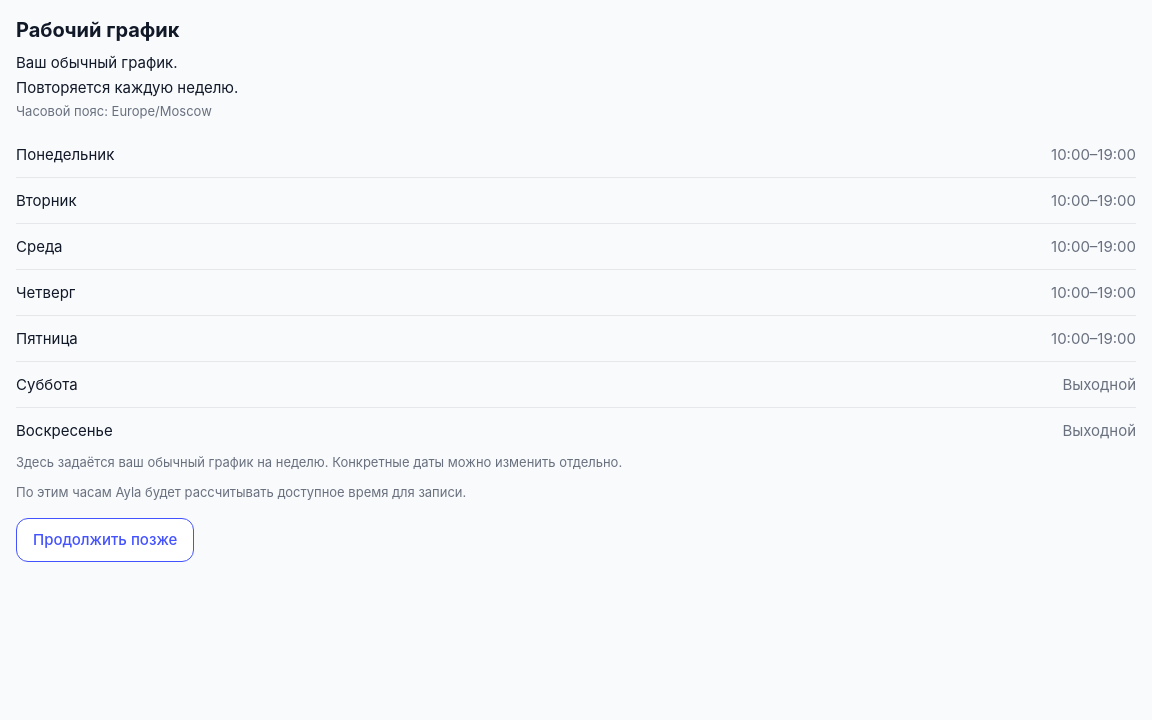
Test case: онбординг › отказ сервера {"status":409,"slug":"has_active_appointments","detail":"…","name":"ApiError"} переводится честно
The image size is (1152, 720).
Expected: the heading "Рабочий график" is shown, [16,18,180,42]
Step 1. Click the button "Среда 10:00–19:00" → (39, 247), box [16,224,1136,269]
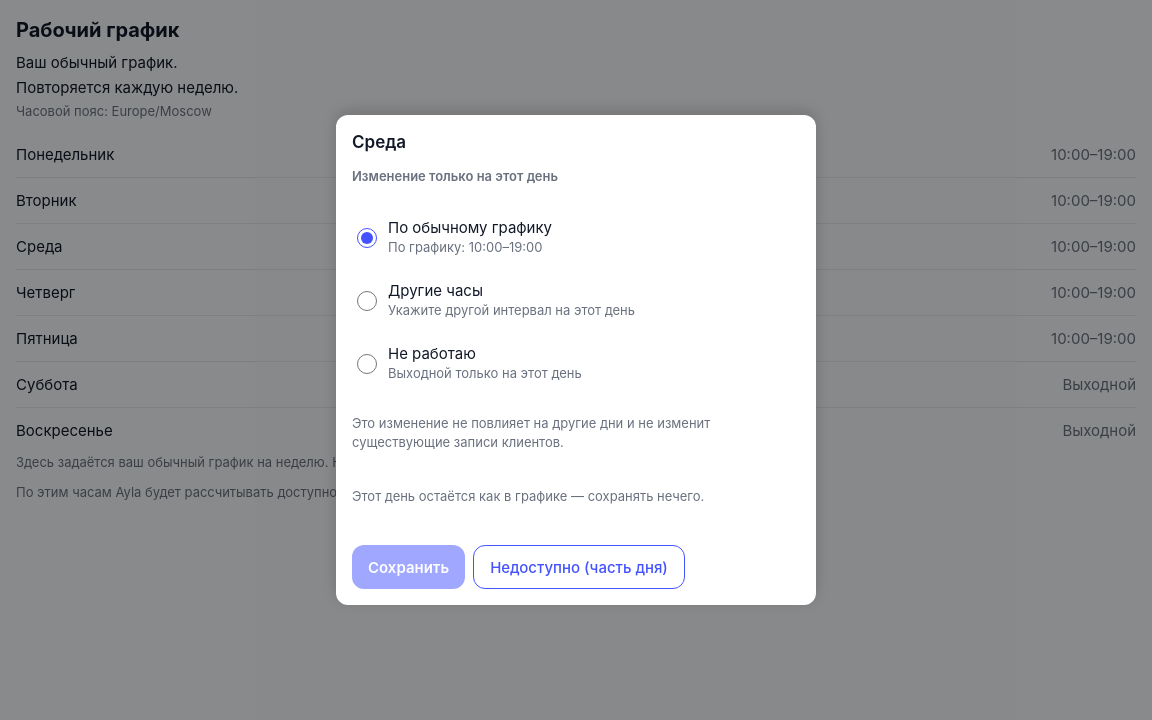
Step 2. Click the radio button labelled "Не работаю Выходной только на этот день" → (367, 364), box [357,354,377,374]
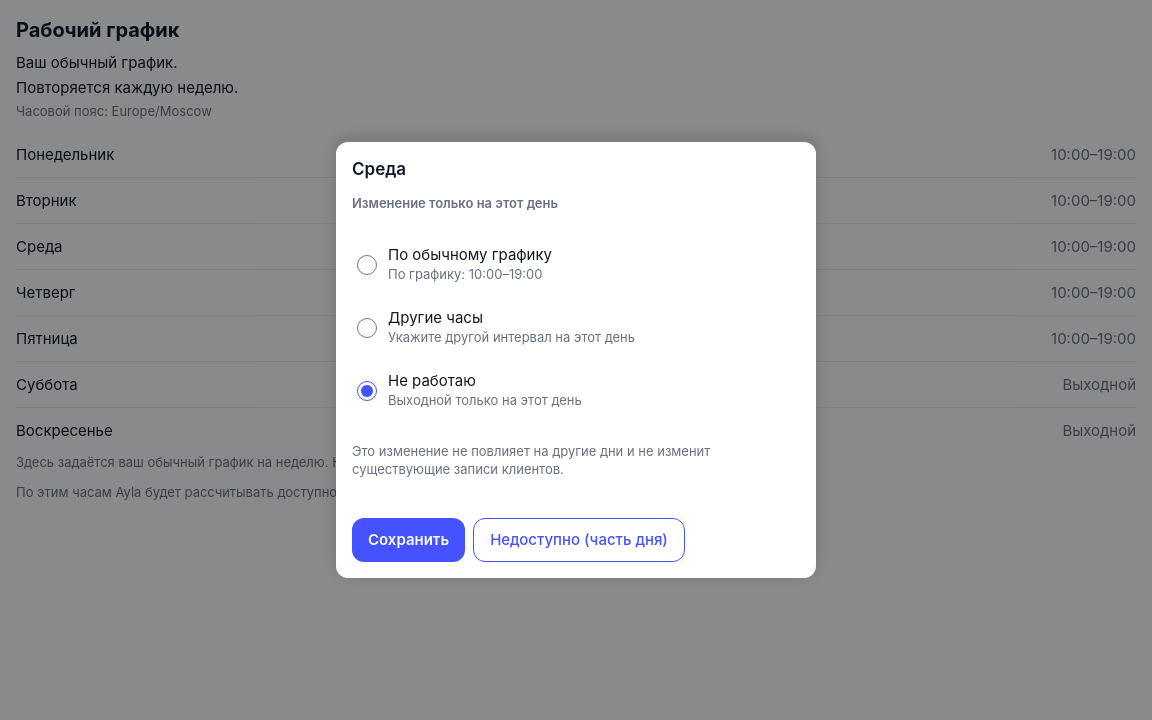
Step 3. Click the button "Сохранить" → (409, 540), box [352,518,465,562]
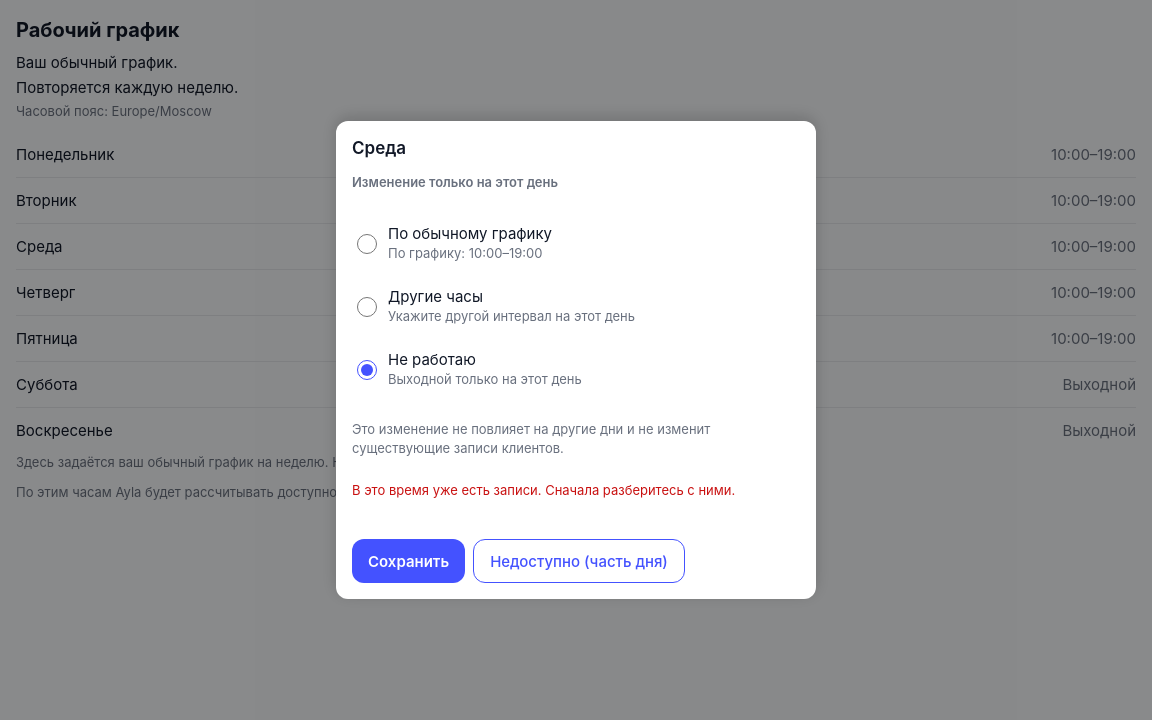
Expected: the message reads "В это время уже есть записи. Сначала разберитесь с ними.", [352,482,735,498]
